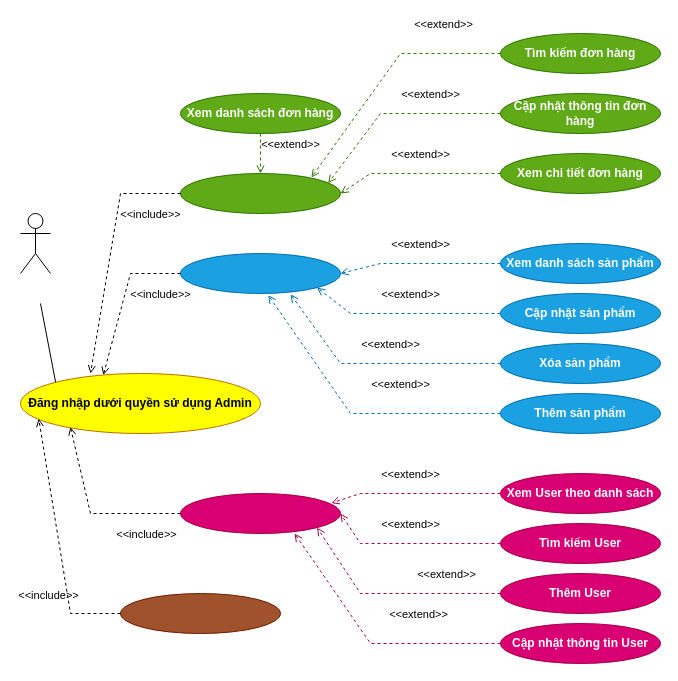
Some shapes in this 678 by 681 pixel diagram are drawn without their labels. Here are the shapes that lost their labels. From the top down, the box of each, then its label:
(180, 172, 340, 214): Quản lý đơn hàng
(20, 212, 50, 274): Admin
(180, 252, 340, 294): Quản lý sản phẩm
(180, 492, 340, 534): Quản lý người dùng
(120, 592, 280, 634): Xem cửa hàng
